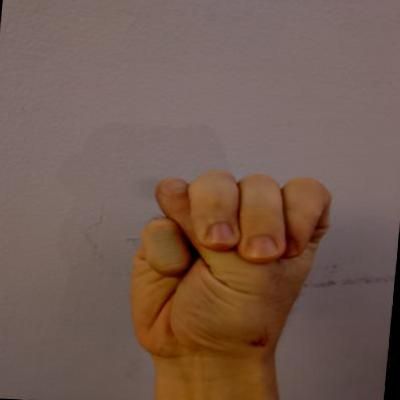hand: (114, 159, 346, 373)
